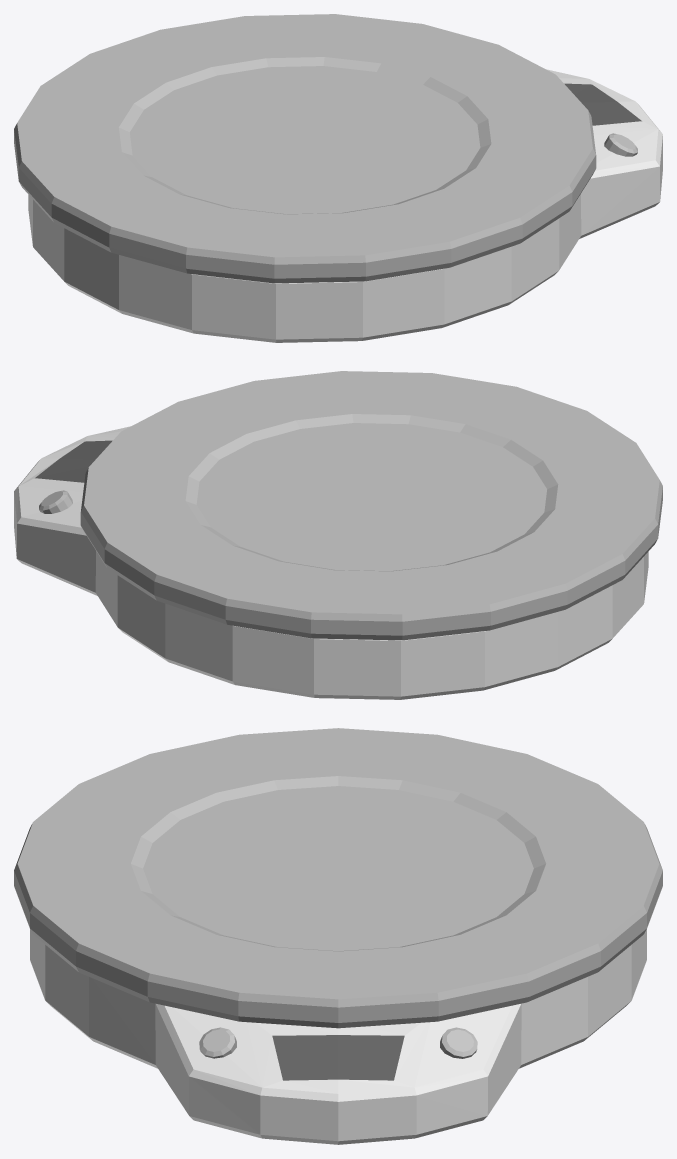
File: 534 Kitchen Scale.obj
The picture shows the model from 3 angles, top to bottom: view 1: azimuth 30°, elevation 25°; view 2: azimuth 150°, elevation 25°; view 3: azimuth 270°, elevation 25°; orthographic projection. The views are drawn at different scales.
Visible parts, largest first — view 1: Kitchen_Scale; view 2: Kitchen_Scale; view 3: Kitchen_Scale.
Boxes of the visible parts, x1=… form: Kitchen_Scale: x1=14, y1=14, x2=662, y2=342; Kitchen_Scale: x1=14, y1=371, x2=662, y2=699; Kitchen_Scale: x1=14, y1=728, x2=662, y2=1144.
Bounding box in the file's own units: 74.3 × 11.14 × 64.05.
1 material, 1 textured.
